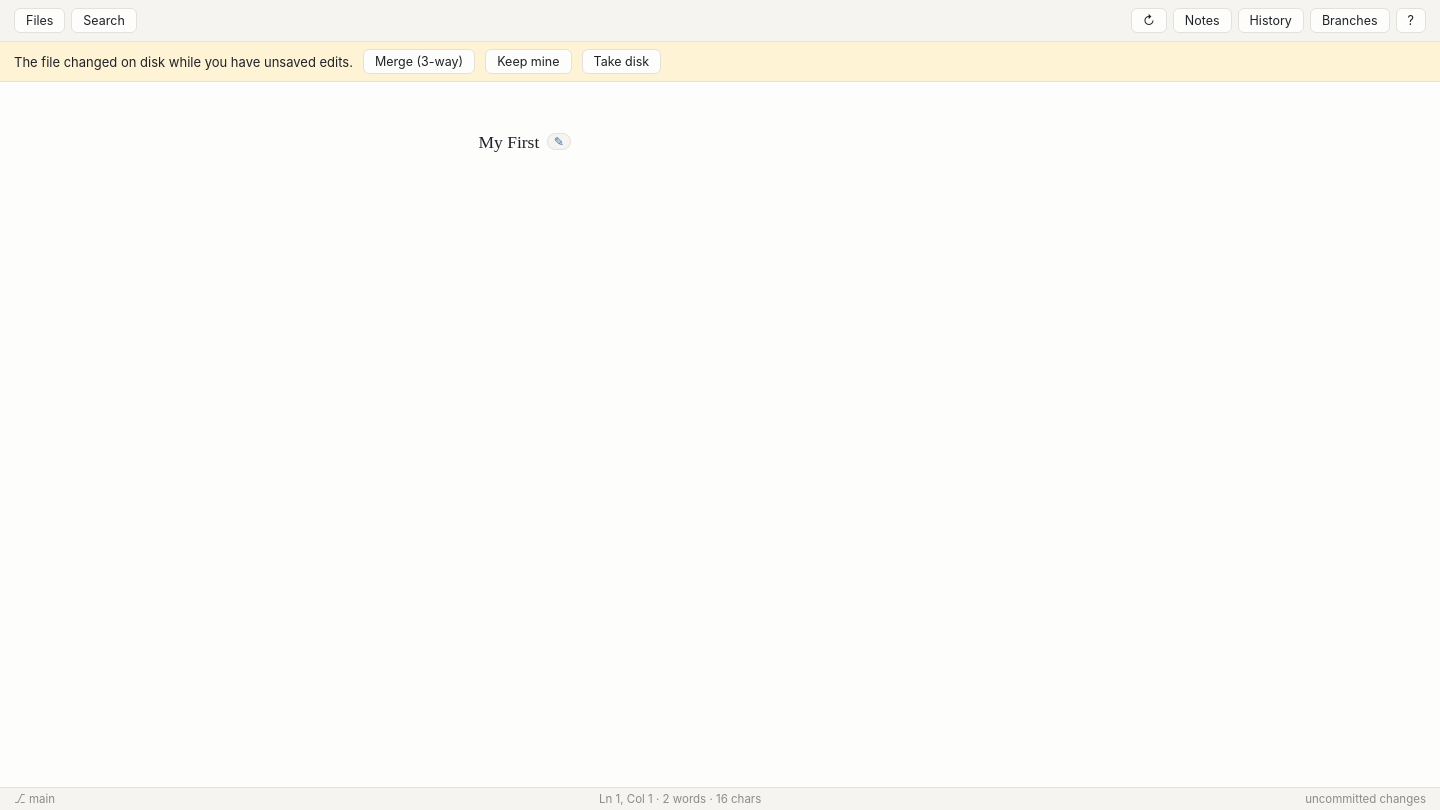
Test: resolves a disk conflict with Keep mine
Click the button "Keep mine". click: (528, 62)
box: [485,49,572,74]
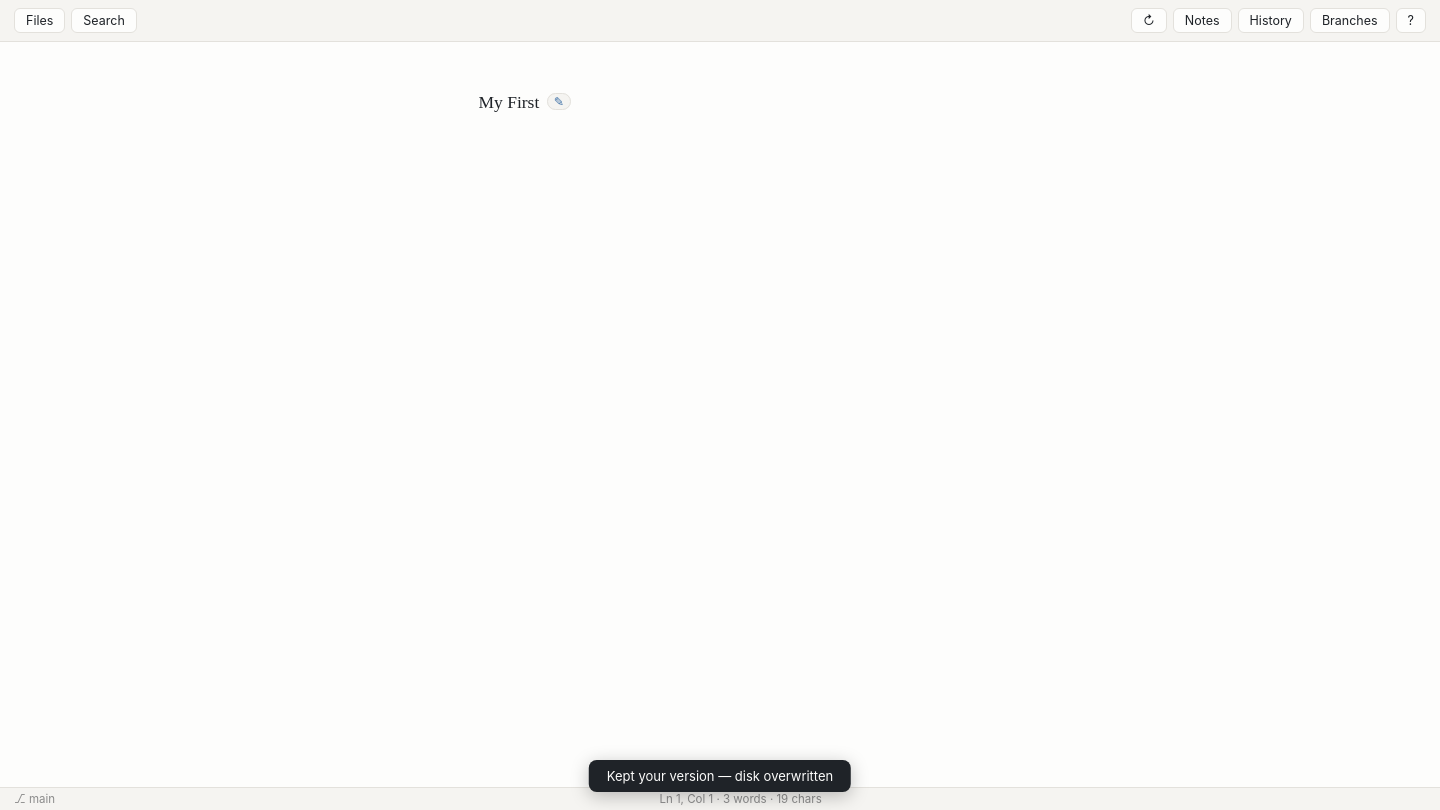
Now the element with class "warning" is gone
